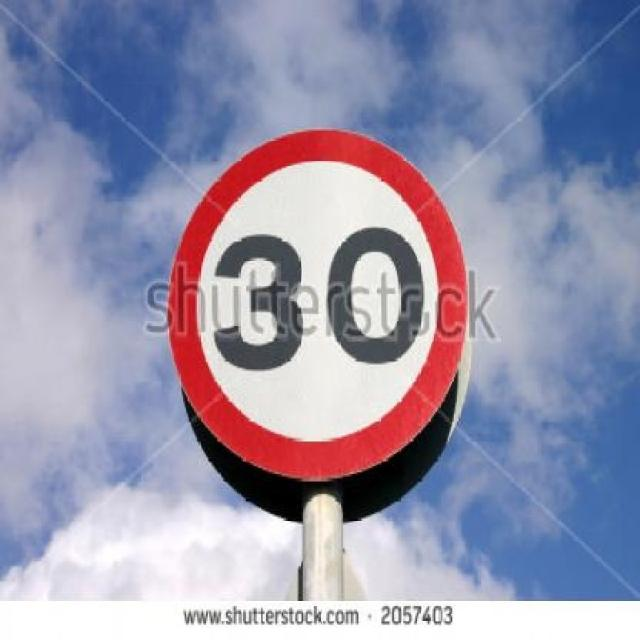forb_speed_over_30: (176, 133, 467, 476)
